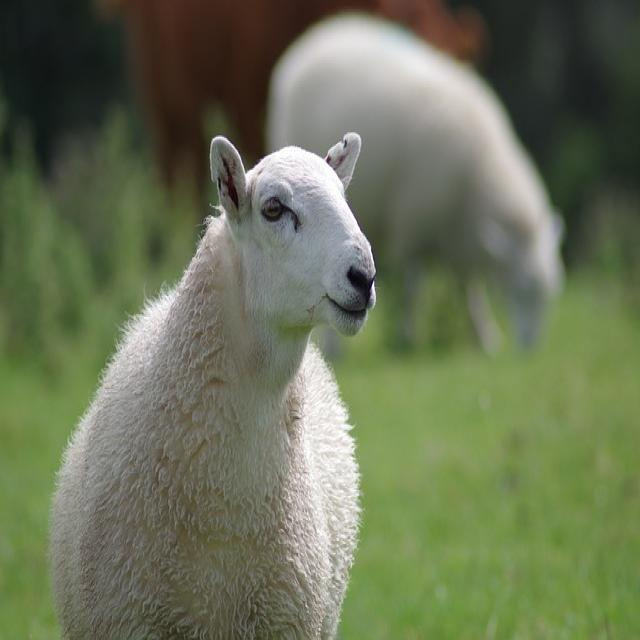goat: (50, 133, 375, 638), (268, 15, 561, 346)
